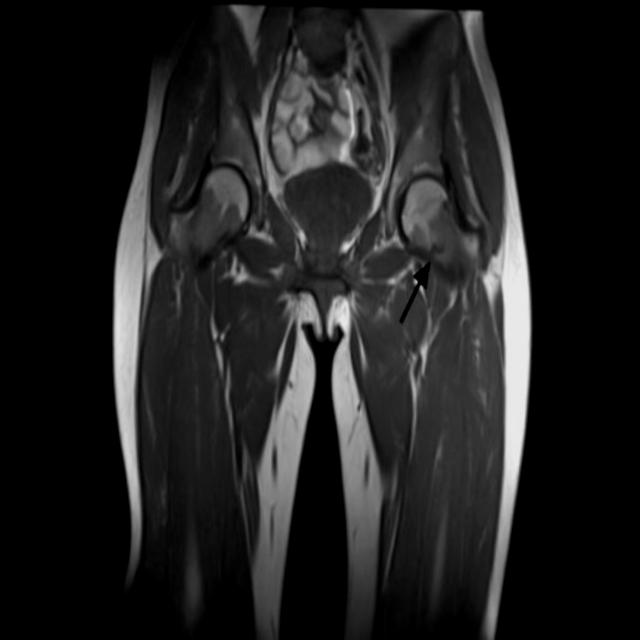Transverse Displaced: (419, 218, 460, 268)
